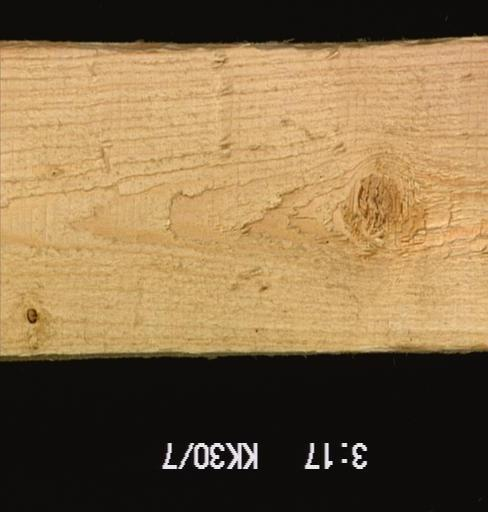dry_knot: (23, 303, 41, 326)
small_knot: (43, 165, 60, 186)
sound_knot: (337, 154, 416, 258)
wave: (360, 334, 484, 364)
